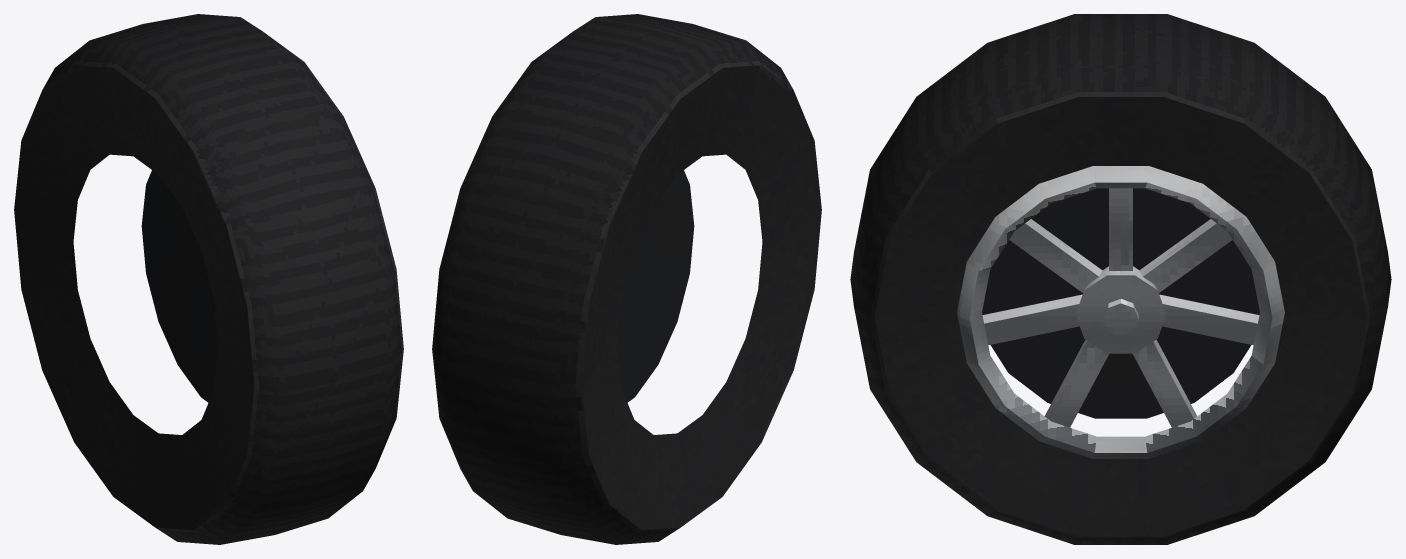
Rendered from goobtruck-wheel.glb.
The picture shows the model from 3 angles, left to right: view 1: azimuth 30°, elevation 25°; view 2: azimuth 150°, elevation 25°; view 3: azimuth 270°, elevation 25°; orthographic projection. The views are drawn at different scales.
Parts seen in each view (by area): view 1: Tyre, RimIn; view 2: Tyre, RimIn; view 3: Tyre, Chrome, RimIn.
Boxes of the visible parts, x1=… form: Tyre: x1=14, y1=14, x2=403, y2=544; RimIn: x1=141, y1=170, x2=218, y2=402; Tyre: x1=432, y1=14, x2=821, y2=544; RimIn: x1=617, y1=170, x2=694, y2=402; Tyre: x1=850, y1=14, x2=1391, y2=544; Chrome: x1=957, y1=166, x2=1284, y2=458; RimIn: x1=982, y1=188, x2=1259, y2=418.
Size of the model in its own units: 0.265 by 0.7682 by 0.78.
Materials: 3 (3 with a texture image).
